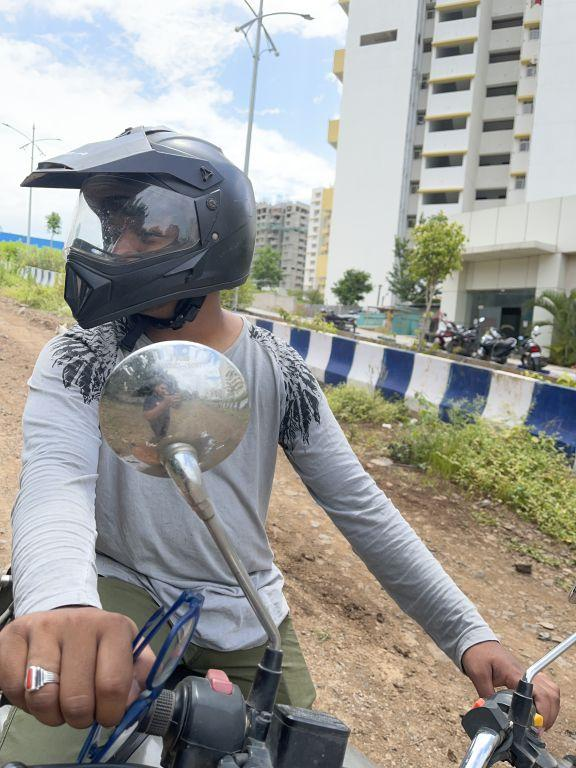helmet: (10, 110, 275, 350)
